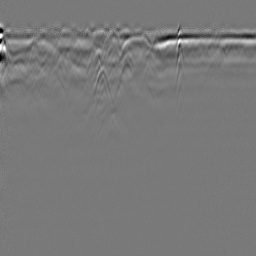cavity: (119, 46, 137, 81)
